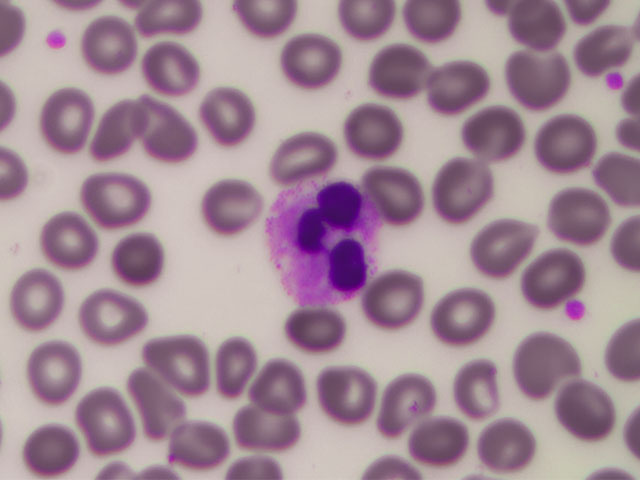Platelets: (606, 69, 627, 93), (49, 30, 68, 49), (566, 301, 588, 317)
RBC: (83, 19, 137, 69), (41, 89, 95, 139), (87, 102, 141, 152), (140, 108, 194, 158), (143, 44, 197, 94), (199, 87, 253, 137), (205, 178, 259, 228), (87, 172, 141, 222), (43, 214, 97, 264), (12, 274, 66, 324), (85, 289, 139, 339), (110, 231, 164, 281), (154, 329, 208, 379), (136, 373, 190, 423), (76, 391, 130, 441), (19, 424, 73, 474), (28, 348, 82, 398), (179, 418, 233, 468), (230, 396, 284, 446), (255, 349, 309, 399), (206, 341, 260, 391), (290, 304, 344, 354), (279, 124, 333, 174), (344, 107, 398, 157), (283, 34, 337, 84), (369, 37, 423, 87), (436, 58, 490, 108), (465, 113, 519, 163), (530, 117, 584, 167), (433, 169, 487, 219), (369, 165, 423, 215), (367, 274, 421, 324), (437, 290, 491, 340), (476, 220, 530, 270), (521, 251, 575, 301), (553, 189, 607, 239), (586, 147, 640, 197), (561, 382, 615, 432), (518, 336, 572, 386), (450, 360, 504, 410), (471, 413, 525, 463), (414, 413, 468, 463), (378, 370, 432, 420), (322, 367, 376, 417)
WBC: (262, 184, 385, 305)
